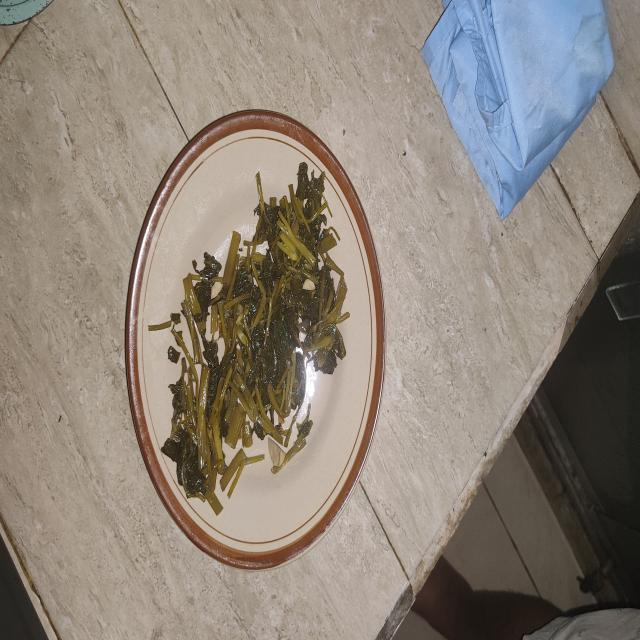tumis_kangkung: (162, 163, 350, 514)
